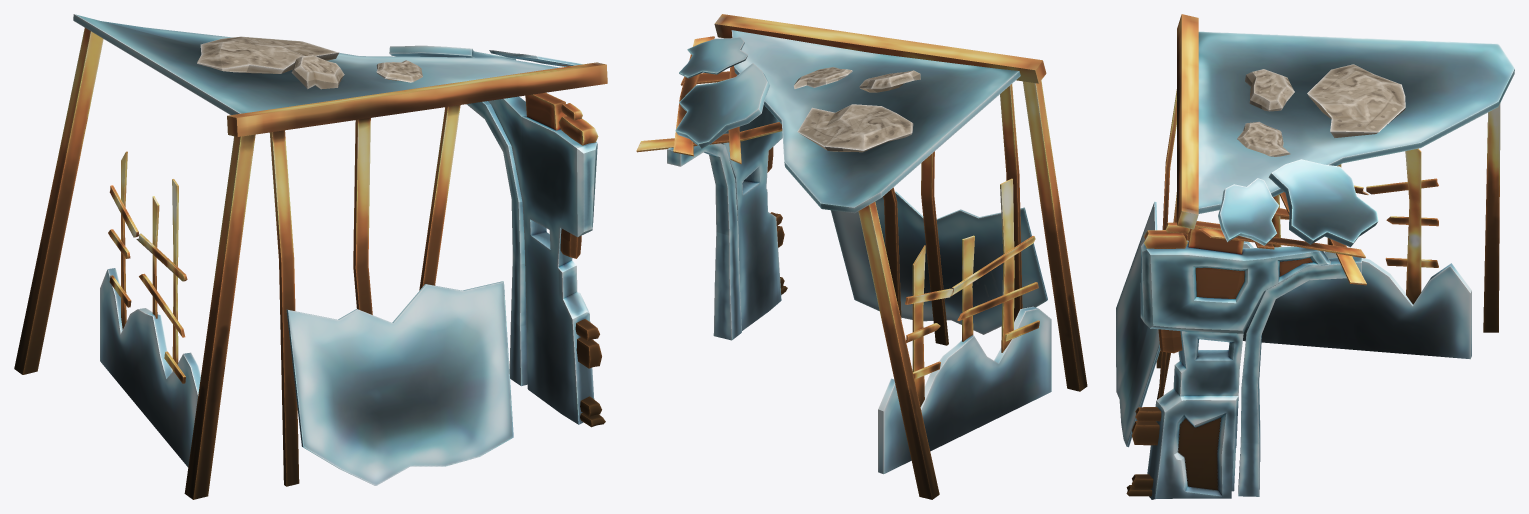
Rendered from Edificio_Ruinas_01.FBX.
3 renders of one model, left to right at view 1: azimuth 30°, elevation 25°; view 2: azimuth 150°, elevation 25°; view 3: azimuth 270°, elevation 25°, orthographic. The views are drawn at different scales.
Visible parts, largest first — view 1: Edificio_Ruinas; view 2: Edificio_Ruinas; view 3: Edificio_Ruinas.
Part boxes in pixels (box(x1,y1,x2,y2)): Edificio_Ruinas: box(14, 14, 607, 499); Edificio_Ruinas: box(636, 14, 1087, 499); Edificio_Ruinas: box(1116, 14, 1514, 499).
Bounding box in the file's own units: 25.74 × 21.07 × 22.69.
